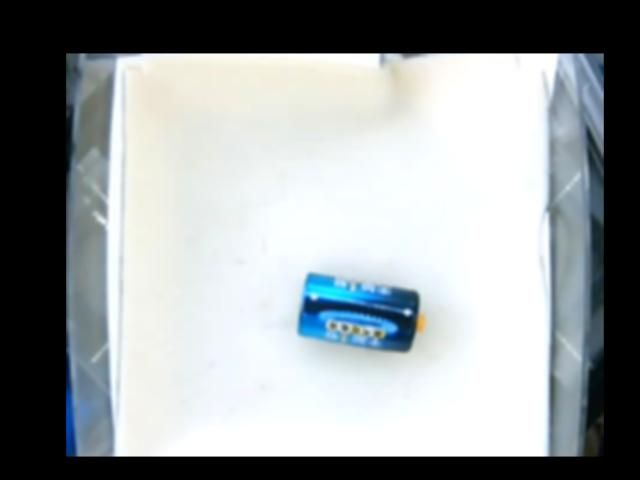Battery: (294, 270, 428, 354)
